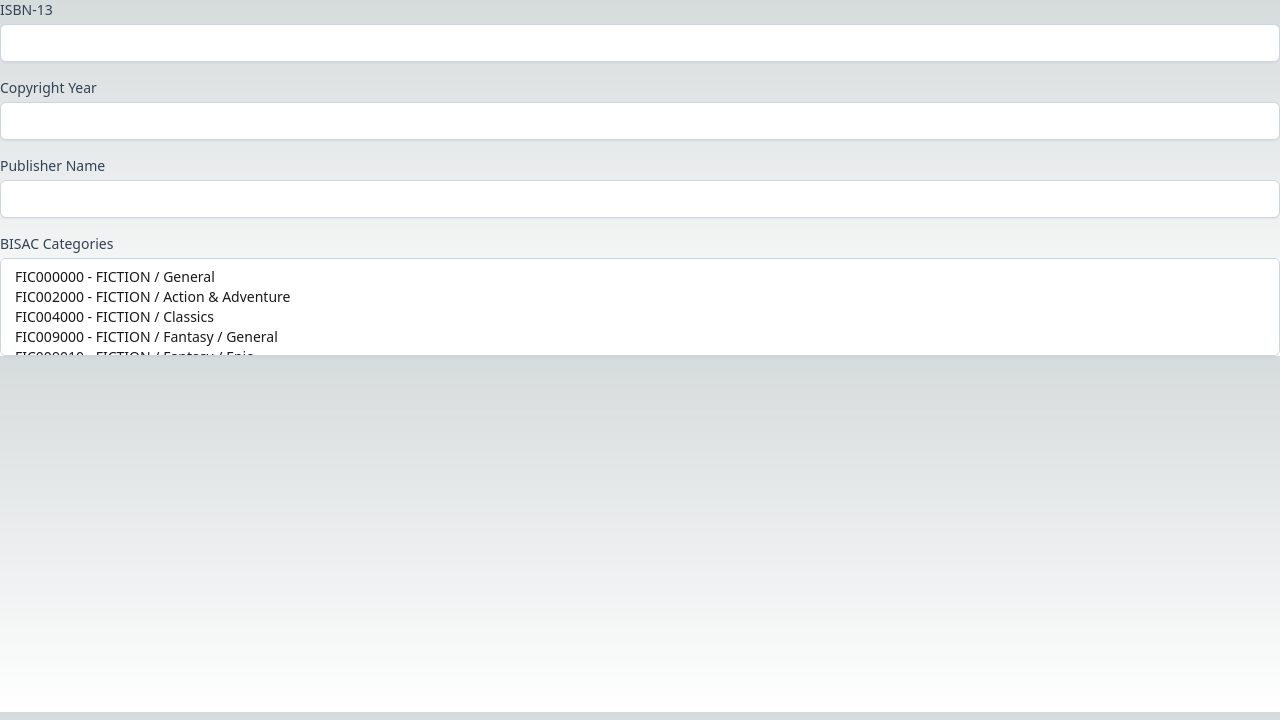
Test case: PublishingSettingsForm › validates ISBN-13 and shows error
The width and height of the screenshot is (1280, 720).
Note: Invalid ISBN (wrong checksum)
In the field labelled "ISBN-13": point(640, 43) [0, 24, 1279, 62], type "978-3-16-148410-1"
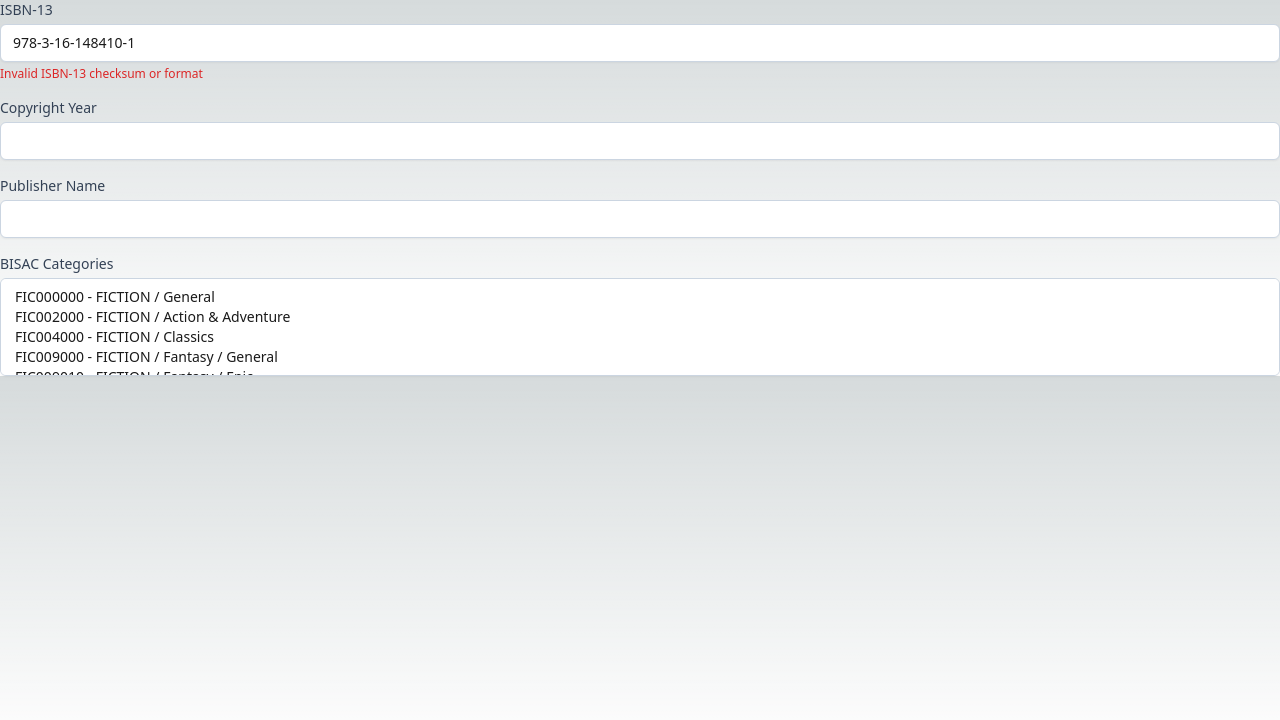
Expected: the text "Invalid ISBN-13 checksum or format" is shown, [0, 65, 203, 82]
Note: Valid ISBN
Replace the text in the field labelled "ISBN-13" with "978-3-16-148410-0": point(640, 43) [0, 24, 1279, 62]
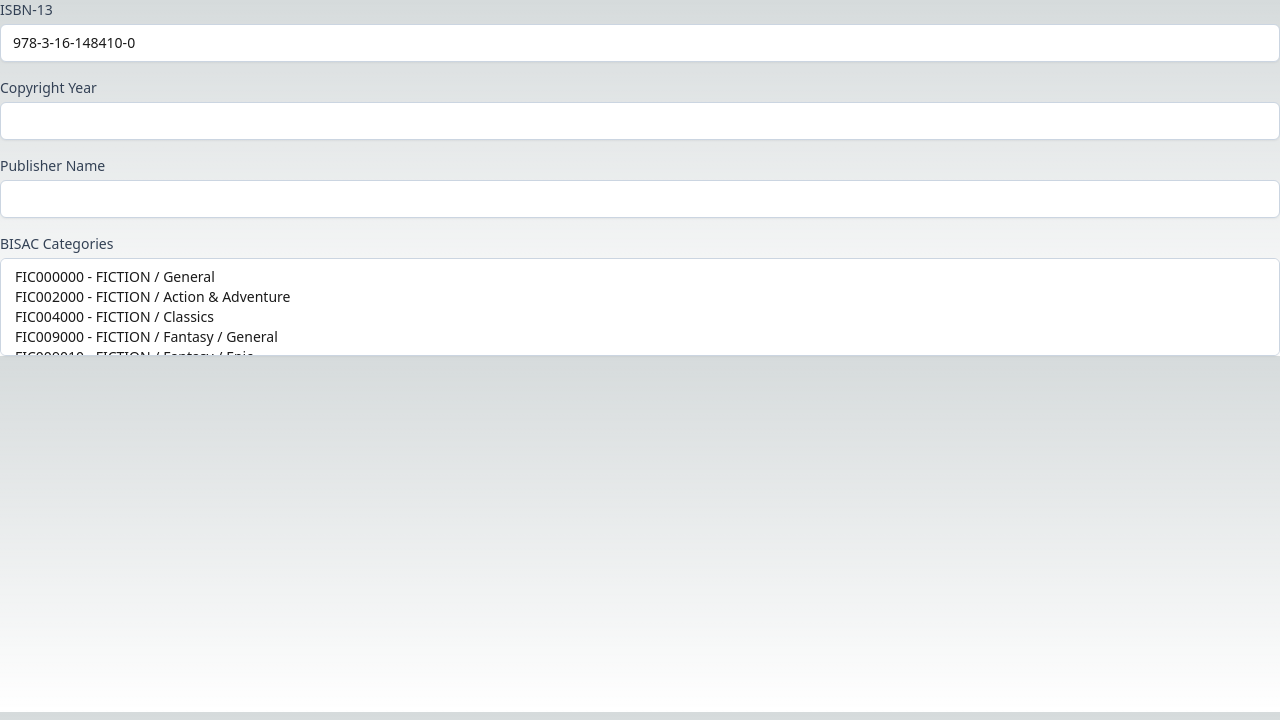
Expected: the text "Invalid ISBN-13 checksum or format" is gone
